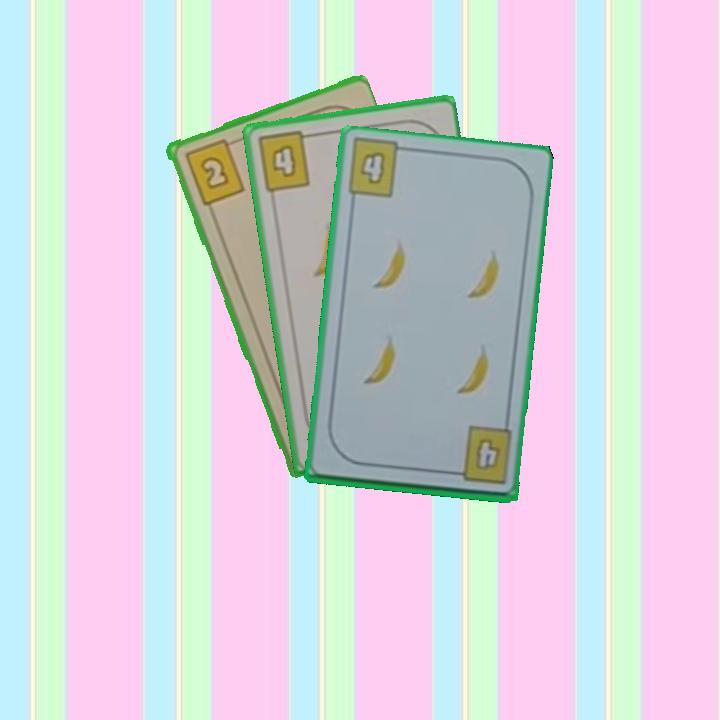2b: (180, 135, 247, 208)
4b: (445, 423, 515, 487), (253, 128, 317, 195), (356, 147, 388, 187)
